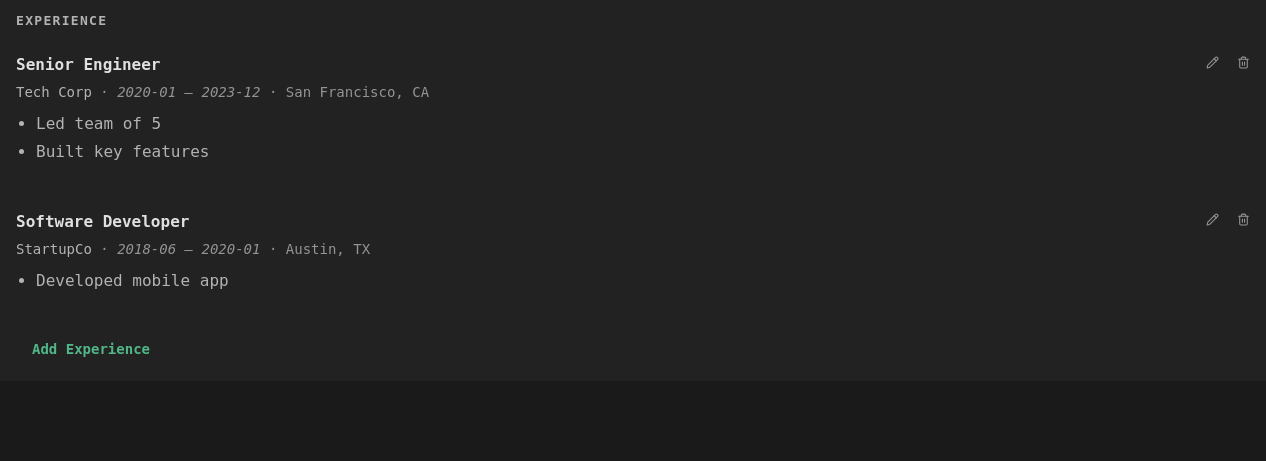
Test: ExperienceSection (edit/add/delete) › edit mode › shows error message when update fails
Click the button named "edit" in the row of "Senior Engineer". click: (1212, 62)
box: [1200, 52, 1225, 73]
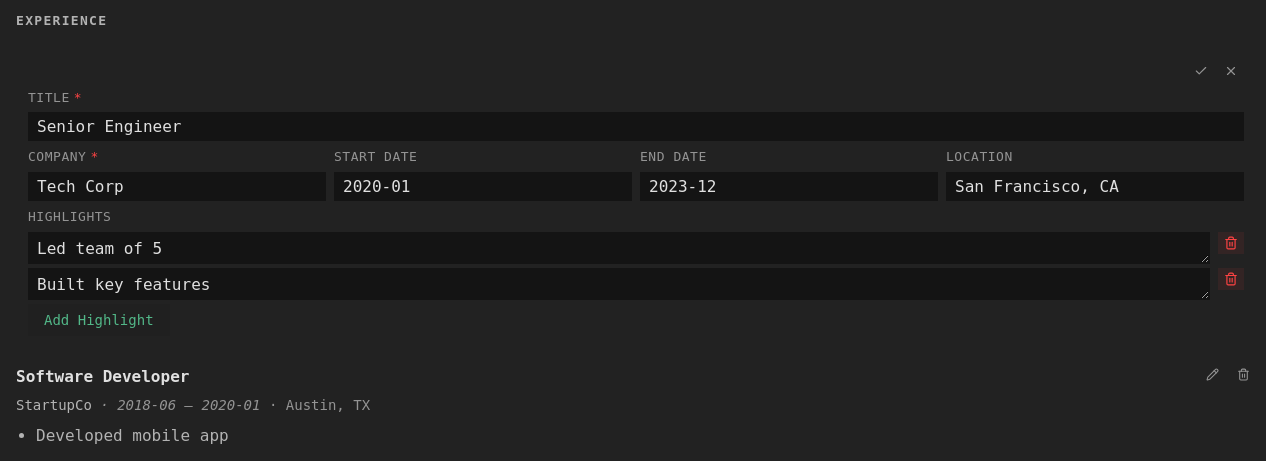
Click the button named "save". click: (1201, 71)
box: [1188, 60, 1214, 82]
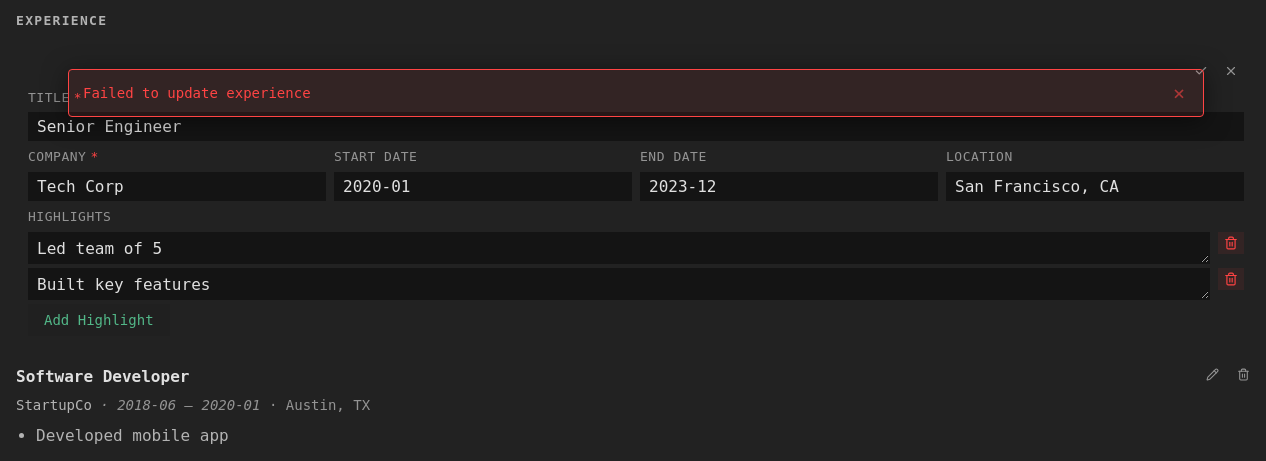
Expected: the text "Failed to update experience" is shown, [83, 85, 311, 101]
